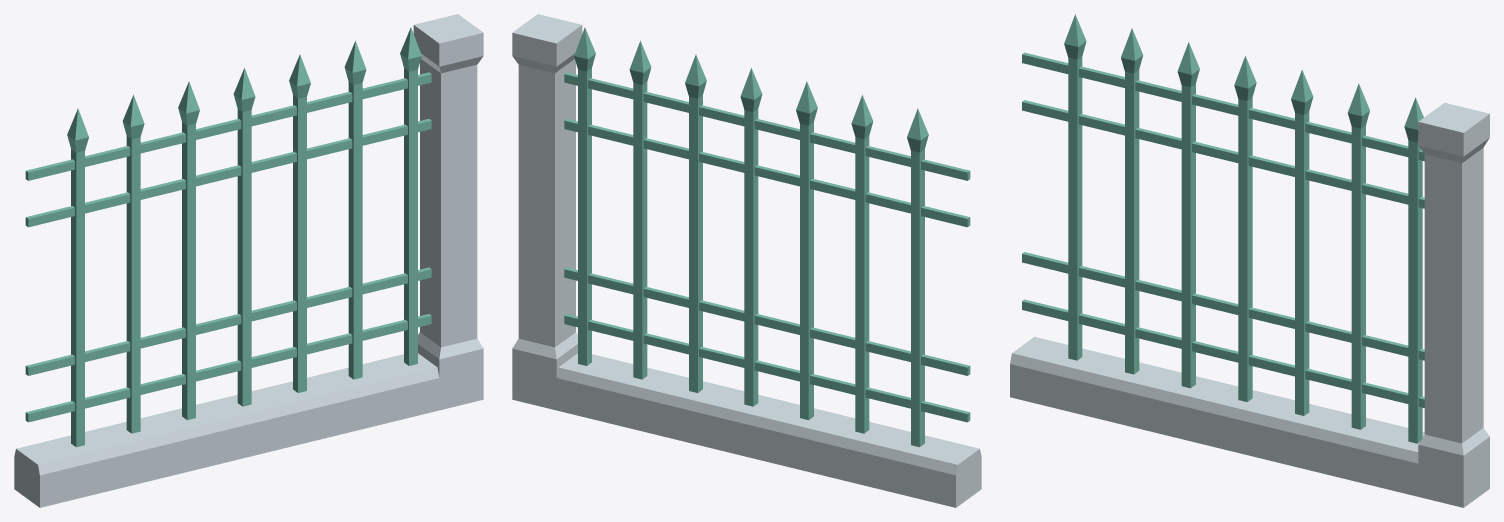
Rendered from fenceIronBorderPillar.fbx.
The picture shows the model from 3 angles, left to right: view 1: azimuth 30°, elevation 25°; view 2: azimuth 150°, elevation 25°; view 3: azimuth 330°, elevation 25°; orthographic projection. The views are drawn at different scales.
Parts seen in each view (by area): view 1: bar (×11), fenceIronBorderPillar; view 2: bar (×11), fenceIronBorderPillar; view 3: fenceIronBorderPillar, bar (×11).
Boxes of the visible parts, x1,y1,x2,y2 form: bar (×11): (25,27,431,447); fenceIronBorderPillar: (14,14,483,507); bar (×11): (564,27,970,447); fenceIronBorderPillar: (512,14,981,507); fenceIronBorderPillar: (1010,102,1489,507); bar (×11): (1022,14,1424,443).
Bounding box in the file's own units: 10 × 8.14 × 1.
